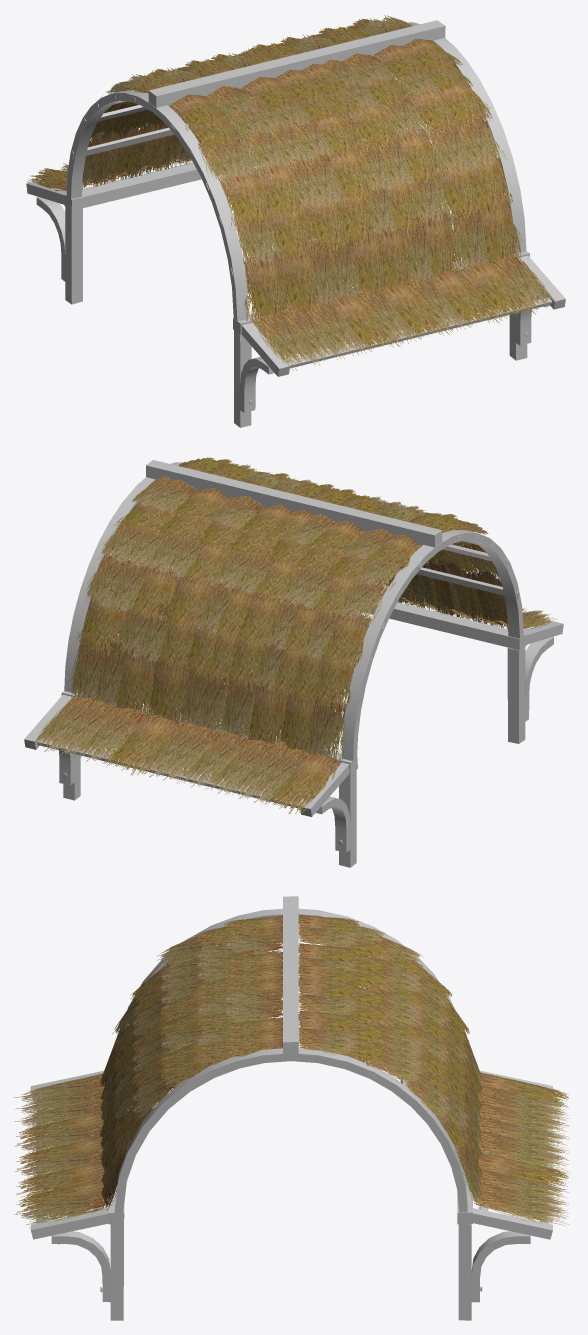
File: Roof11.FBX
The picture shows the model from 3 angles, top to bottom: view 1: azimuth 30°, elevation 25°; view 2: azimuth 150°, elevation 25°; view 3: azimuth 270°, elevation 25°; orthographic projection. The views are drawn at different scales.
Parts seen in each view (by area): view 1: Plane00266, polySurface96; view 2: Plane00266, polySurface96; view 3: Plane00266, polySurface96.
Boxes of the visible parts, left/top/right/bottom form: Plane00266: left=27, top=15, right=555, bottom=370; polySurface96: left=26, top=20, right=565, bottom=427; Plane00266: left=30, top=457, right=557, bottom=814; polySurface96: left=24, top=460, right=563, bottom=867; Plane00266: left=14, top=915, right=570, bottom=1228; polySurface96: left=30, top=896, right=552, bottom=1320.
Bounding box in the file's own units: 612 × 536 × 972.
